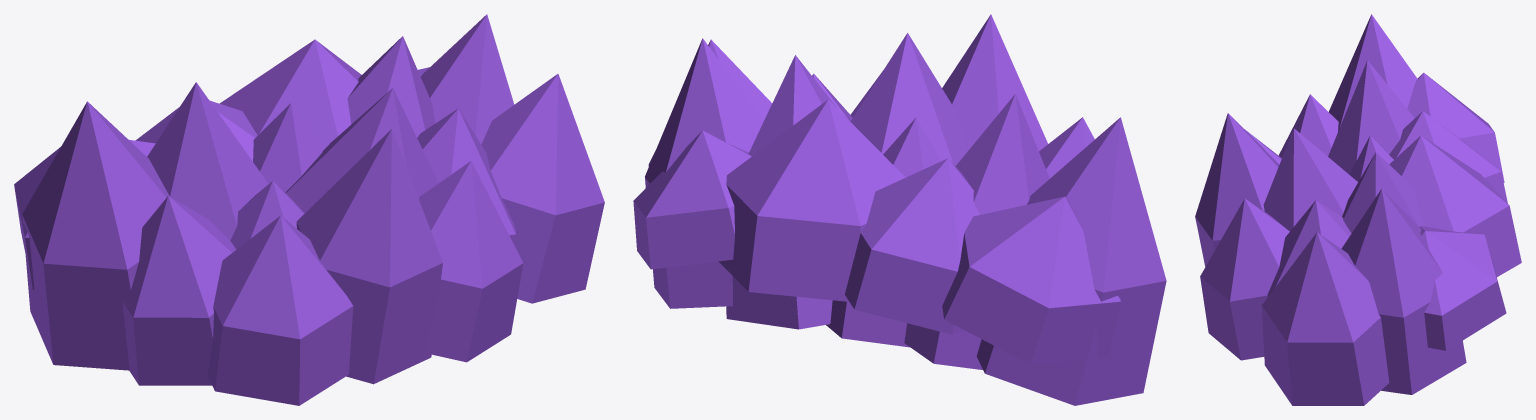
The model's file is Geode_Cluster_C.fbx.
3 views of the same model, side by side, from view 1: azimuth 30°, elevation 25°; view 2: azimuth 150°, elevation 25°; view 3: azimuth 270°, elevation 25° (orthographic). The views are drawn at different scales.
Parts seen in each view (by area): view 1: Crystal1, Crystal3, Crystal2; view 2: Crystal3, Crystal1, Crystal2; view 3: Crystal2, Crystal1, Crystal3.
Boxes of the visible parts, x1,y1,x2,y2 form: Crystal1: (122,14,515,405); Crystal3: (22,36,523,370); Crystal2: (14,67,604,384); Crystal3: (726,33,1166,405); Crystal1: (645,38,1094,369); Crystal2: (633,14,1120,364); Crystal2: (1195,72,1506,405); Crystal1: (1245,60,1521,394); Crystal3: (1200,14,1507,360).
Size of the model in its own units: 1.25 by 0.6019 by 0.8349.
